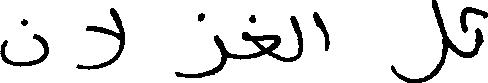X: (393, 0, 447, 82), (175, 8, 226, 82), (77, 3, 124, 74), (0, 14, 48, 71), (244, 10, 279, 64), (474, 3, 487, 60), (314, 7, 329, 55), (290, 11, 302, 66)
